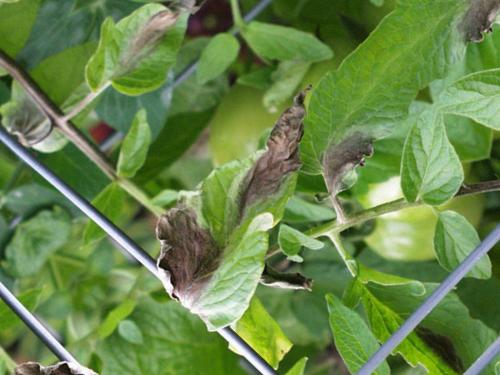Tomato leaf late blight: (123, 73, 393, 346), (245, 21, 444, 220), (57, 0, 253, 132)
